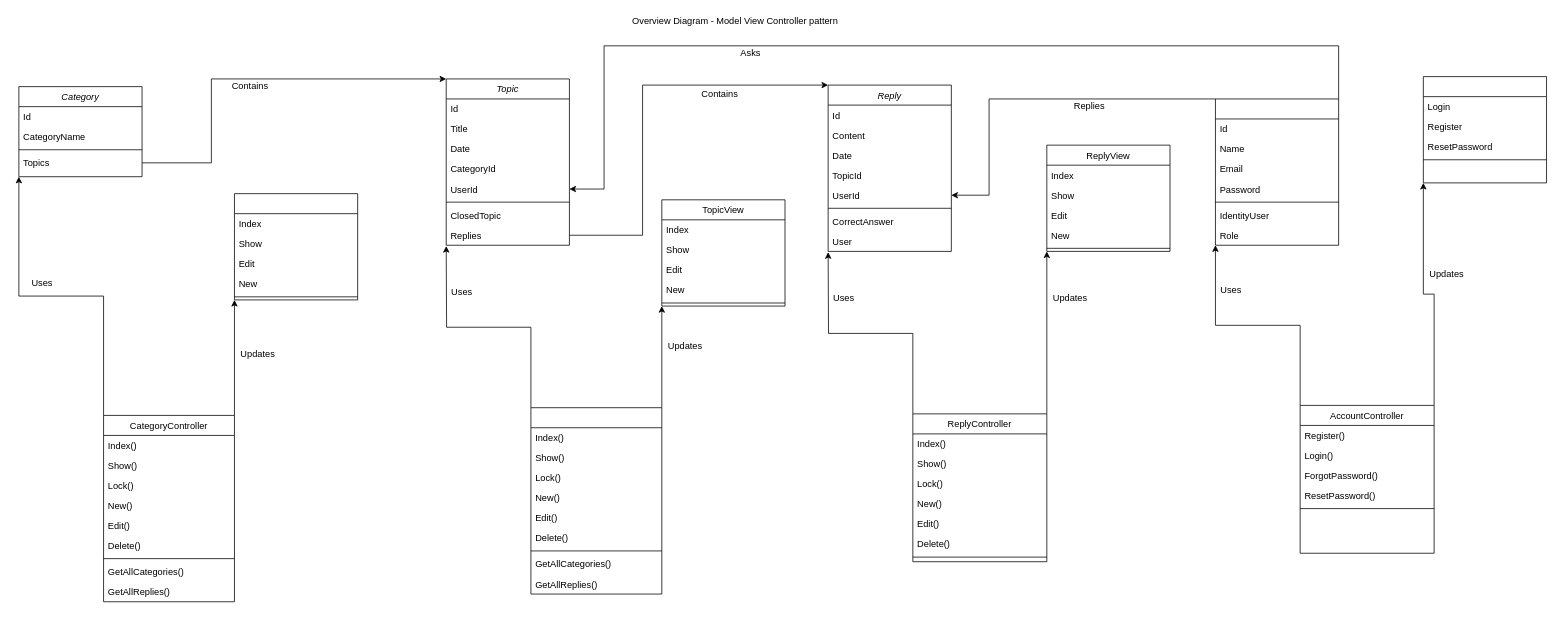
The diagram is 1560 pixels wide and 617 high, and some of its shapes have lost their labels. Here are the shapes that lost their labels. From the top down, the box of each, then its label:
(1423, 76, 1547, 183): AccountView
(1215, 98, 1339, 245): AccountUser
(234, 193, 358, 300): CategoryView
(530, 407, 662, 594): TopicController
